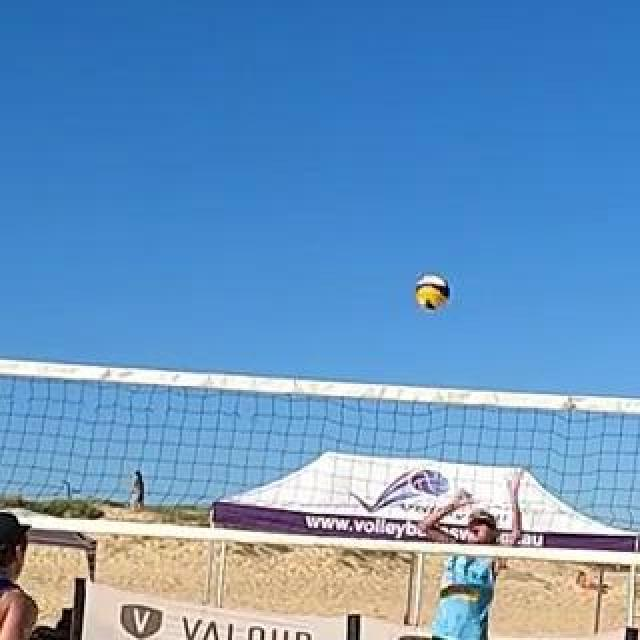volleyball: (416, 276, 448, 308)
